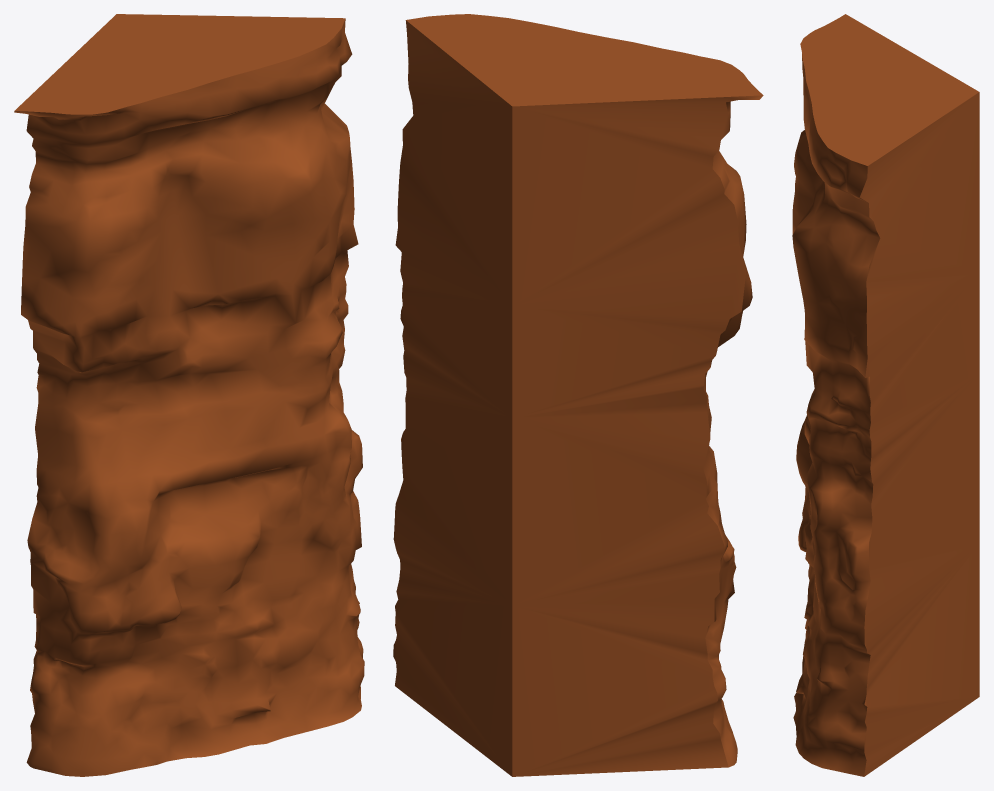
The model's file is MSH_Rocks_Cliff_04_c.FBX.
3 views of the same model, side by side, from view 1: azimuth 30°, elevation 25°; view 2: azimuth 150°, elevation 25°; view 3: azimuth 270°, elevation 25° (orthographic). The views are drawn at different scales.
Parts seen in each view (by area): view 1: MESH_LOD0, CAP_LOD0; view 2: CAP_LOD0, MESH_LOD0; view 3: CAP_LOD0, MESH_LOD0.
Part boxes in pixels (bbox=[...]): MESH_LOD0: bbox=[14, 19, 364, 776]; CAP_LOD0: bbox=[14, 14, 345, 114]; CAP_LOD0: bbox=[393, 14, 763, 776]; MESH_LOD0: bbox=[401, 101, 752, 767]; CAP_LOD0: bbox=[800, 14, 979, 776]; MESH_LOD0: bbox=[792, 54, 880, 776].
Size of what is drawn, in the model's own units: 374 by 666 by 187.
